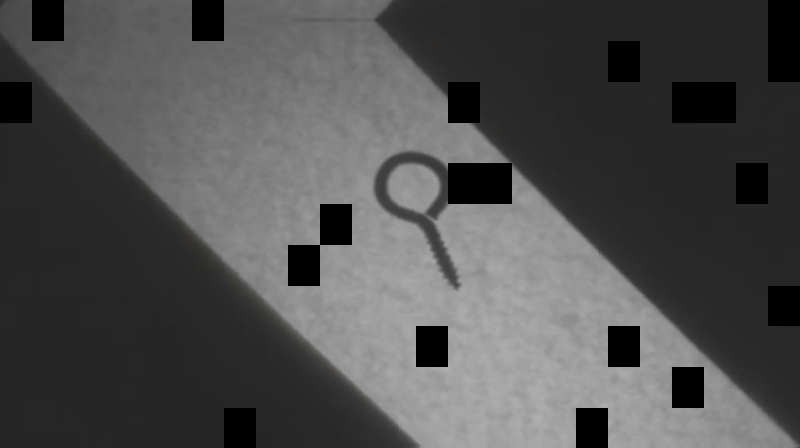O001: (367, 149, 464, 293)
